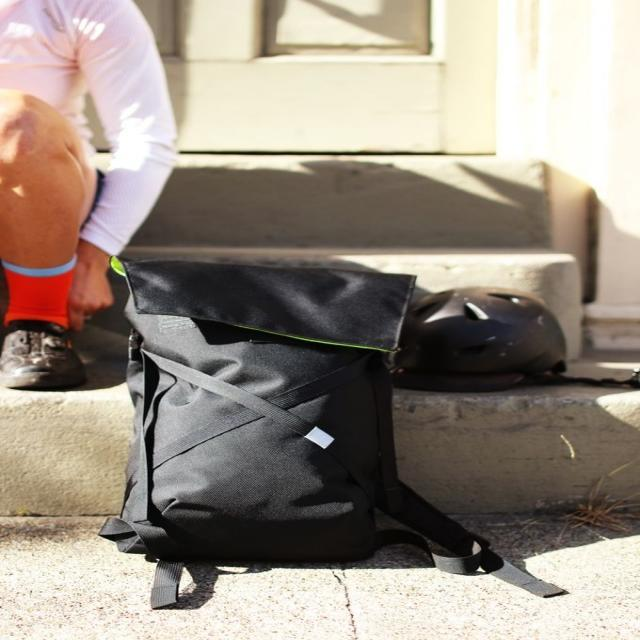Backpacks: (106, 255, 420, 552)
